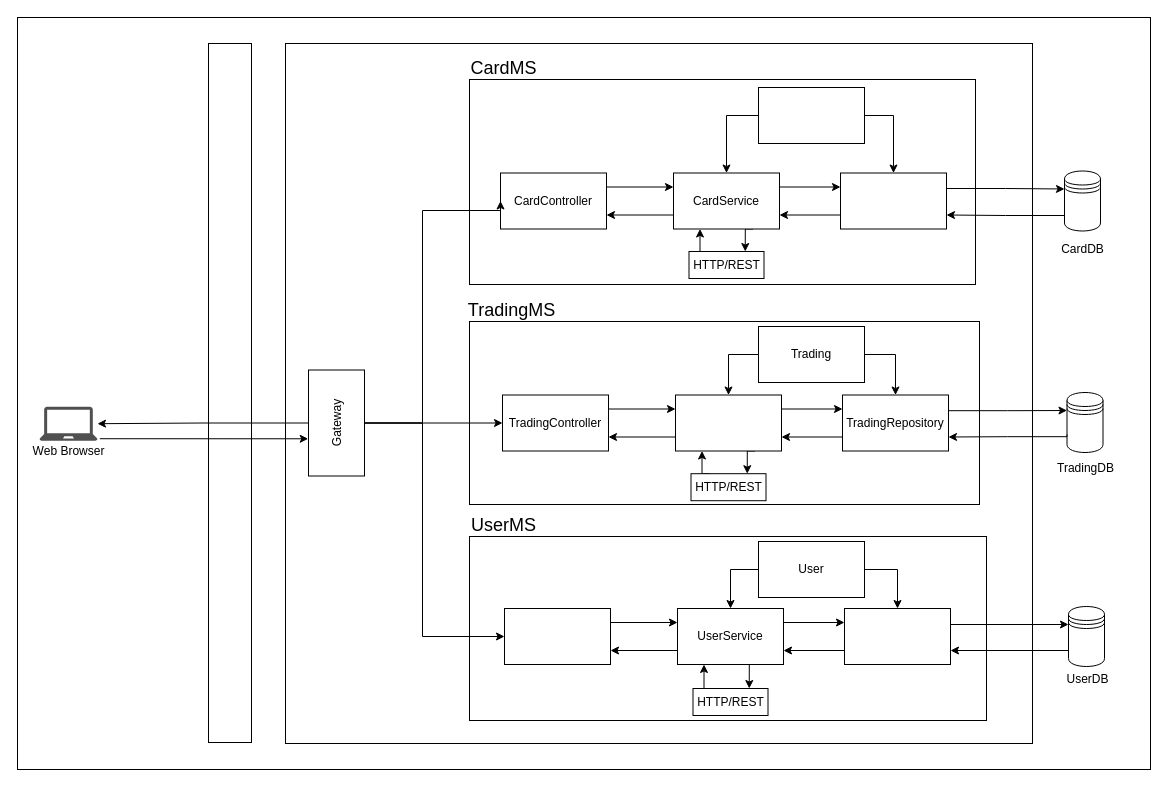
Image size: 1168x787. Some labels were removed from this diagram. Each missing label, with the centre of its shape:
"Card" belongs at point (811, 115).
"CardRepository" belongs at point (893, 200).
"HTTPServices" belongs at point (230, 392).
"TradingService" belongs at point (728, 422).
"UserController" belongs at point (557, 636).
"UserRepository" belongs at point (897, 636).
